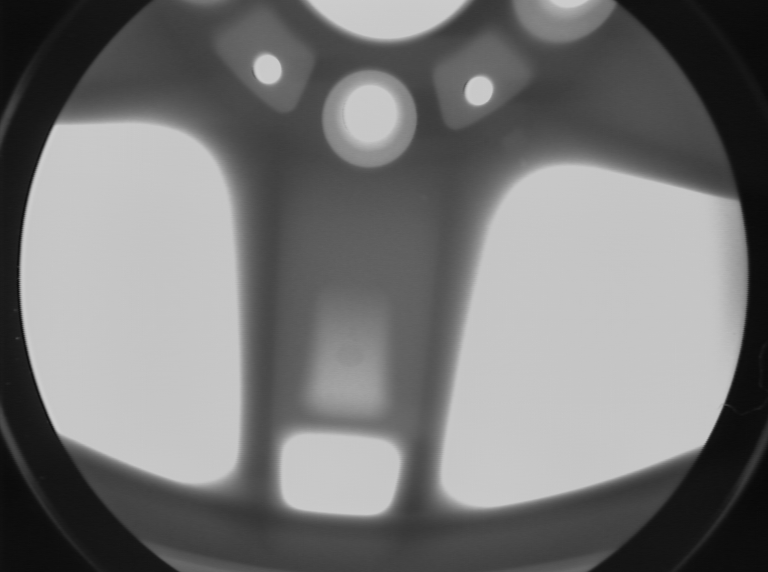defect: (416, 189, 432, 205)
